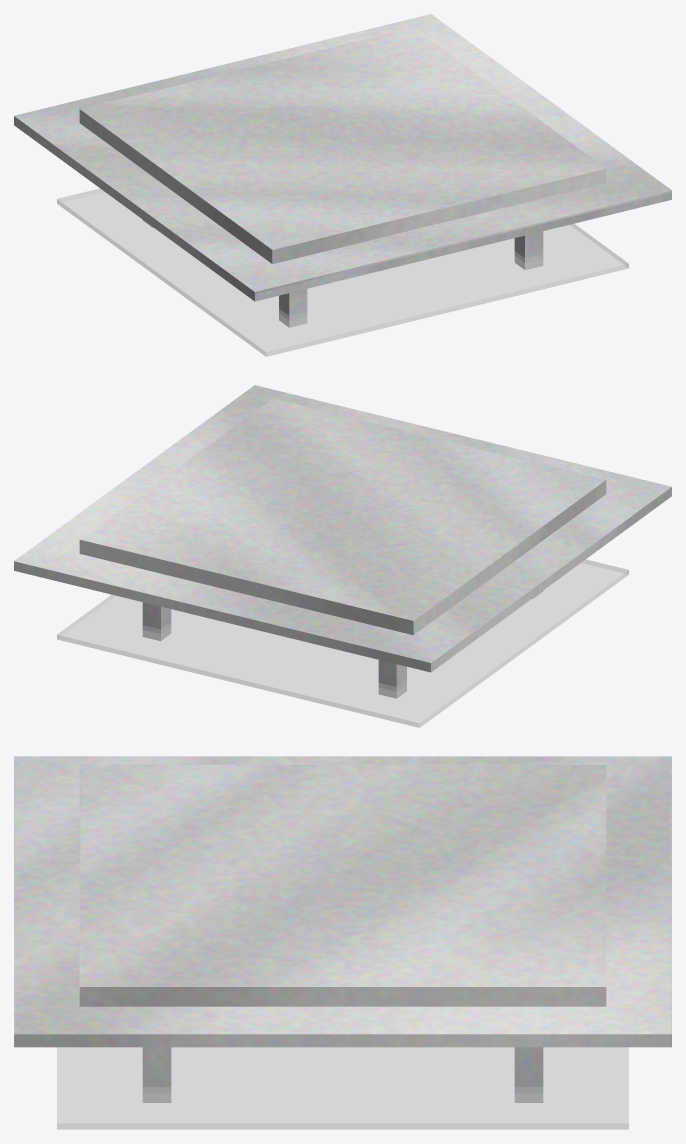
File: ceiling_lamp_globo_feria.obj
3 views of the same model, one above another, from view 1: azimuth 30°, elevation 25°; view 2: azimuth 150°, elevation 25°; view 3: azimuth 270°, elevation 25° (orthographic). The views are drawn at different scales.
Parts seen in each view (by area): view 1: PolyMesh_1_2_2, PolyMesh_2_1_1; view 2: PolyMesh_1_2_2, PolyMesh_2_1_1; view 3: PolyMesh_1_2_2, PolyMesh_2_1_1.
Part boxes in pixels (left/top/right/bottom): PolyMesh_1_2_2: left=14, top=14, right=671, bottom=327; PolyMesh_2_1_1: left=57, top=188, right=628, bottom=356; PolyMesh_1_2_2: left=14, top=385, right=671, bottom=698; PolyMesh_2_1_1: left=57, top=559, right=628, bottom=727; PolyMesh_1_2_2: left=14, top=756, right=671, bottom=1102; PolyMesh_2_1_1: left=57, top=1047, right=628, bottom=1129.
Bounding box in the file's own units: 46 × 11 × 46.
Materials: 2 (1 with a texture image).
